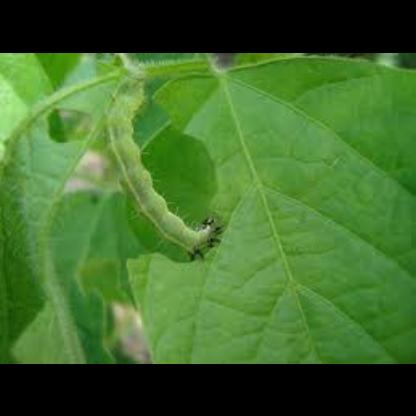agujero: (42, 100, 94, 146)
oruga: (98, 74, 214, 252)
